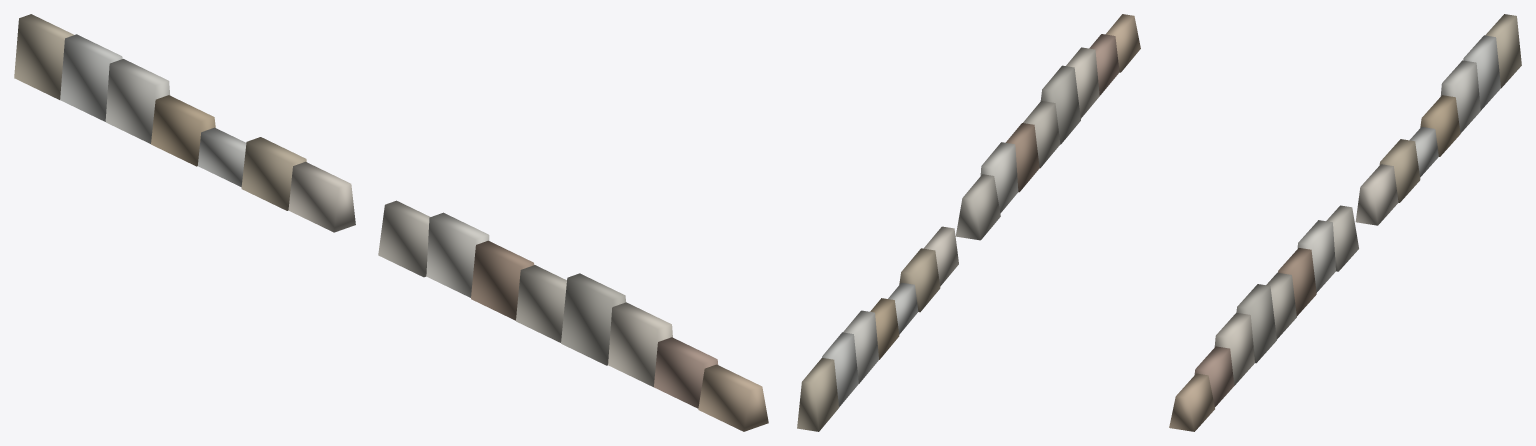
File: farm_3_-1_collision.glb
3 views of the same model, side by side, from view 1: azimuth 30°, elevation 25°; view 2: azimuth 150°, elevation 25°; view 3: azimuth 330°, elevation 25° (orthographic). The views are drawn at different scales.
Visible parts, largest first — view 1: geometry_0; view 2: geometry_0; view 3: geometry_0.
Part boxes in pixels (bbox=[...]): geometry_0: bbox=[14, 14, 768, 431]; geometry_0: bbox=[797, 14, 1140, 431]; geometry_0: bbox=[1169, 14, 1521, 431].
Bounding box in the file's own units: 5.02 × 1.88 × 25.01.
